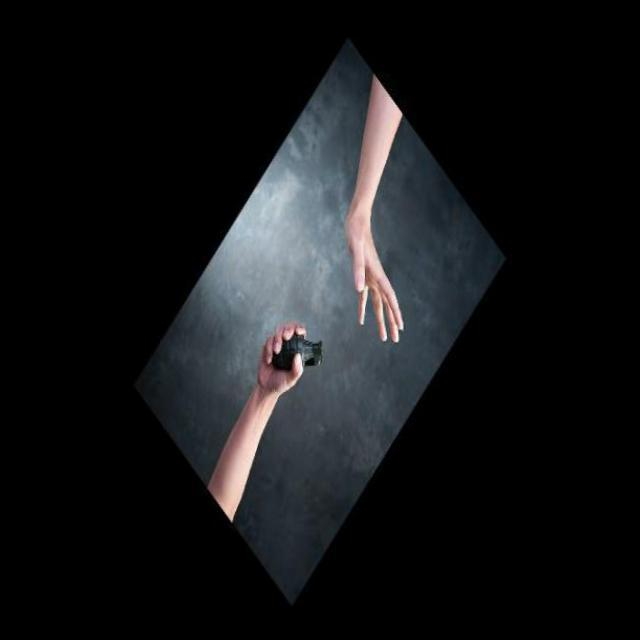grenade: (260, 332, 332, 374)
